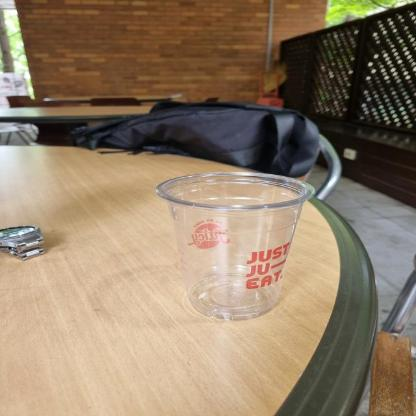Plastic Cup: (148, 168, 320, 324)
